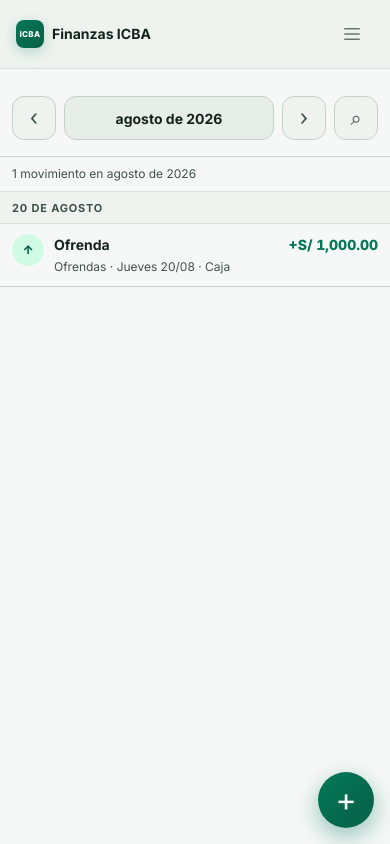
Test: navegación principal › marca el destino activo y cierra el menú móvil al navegar
Click the button named "Abrir menú".
click(352, 34)  # box x1=330 y1=12 x2=374 y2=56
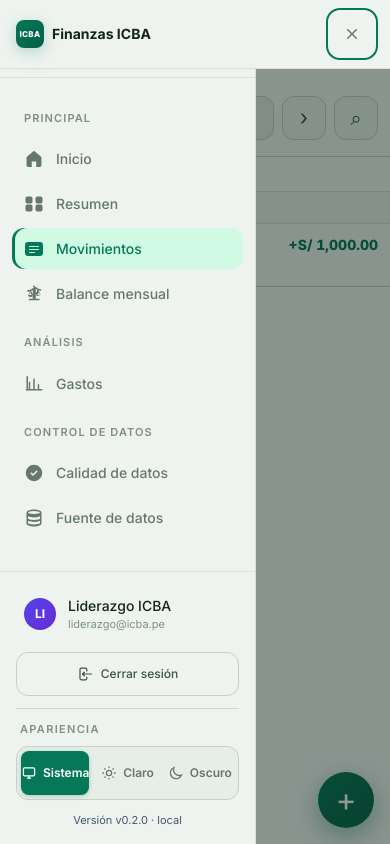
Check: the button named "Cerrar menú" is expanded, box x1=330 y1=12 x2=374 y2=56
Click the link "Calidad de datos".
click(96, 472)  # box x1=24 y1=462 x2=168 y2=482
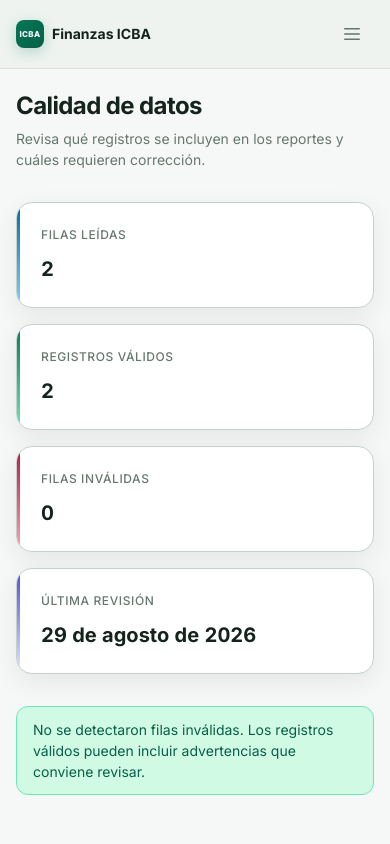
Check: the button named "Abrir menú" is collapsed, box x1=330 y1=12 x2=374 y2=56
Check: the heading "Calidad de datos" is shown, box x1=16 y1=91 x2=202 y2=120
